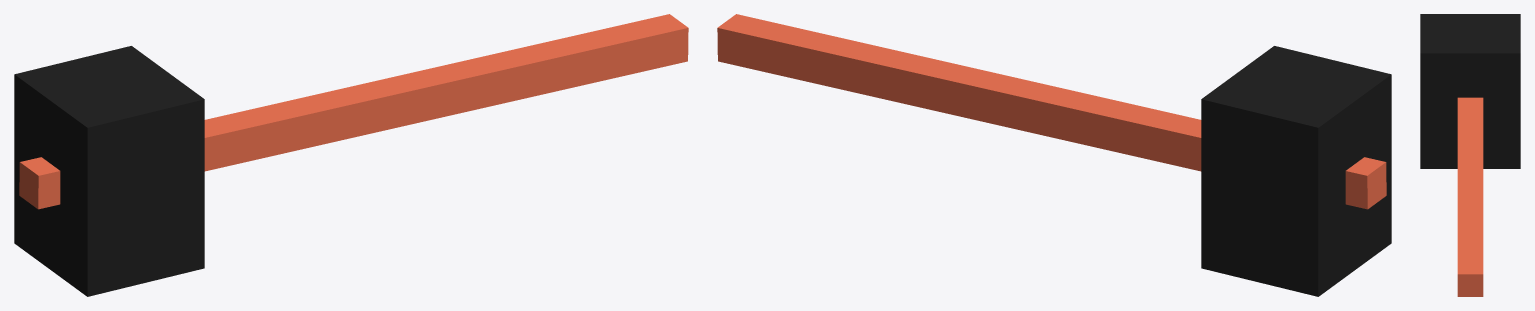
The model's file is hammer.FBX.
3 renders of one model, left to right at view 1: azimuth 30°, elevation 25°; view 2: azimuth 150°, elevation 25°; view 3: azimuth 270°, elevation 25°, orthographic. The views are drawn at different scales.
Parts seen in each view (by area): view 1: Box034, Box033; view 2: Box034, Box033; view 3: Box034, Box033.
Boxes of the visible parts, left/top/right/bottom form: Box034: left=14, top=46, right=204, bottom=296; Box033: left=19, top=14, right=688, bottom=209; Box034: left=1201, top=46, right=1391, bottom=296; Box033: left=717, top=14, right=1386, bottom=209; Box034: left=1420, top=14, right=1520, bottom=168; Box033: left=1457, top=97, right=1483, bottom=296.
Bounding box in the file's own units: 17.61 × 4.38 × 3.43.
